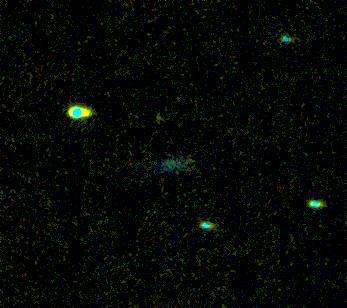star: (143, 104, 173, 134)
